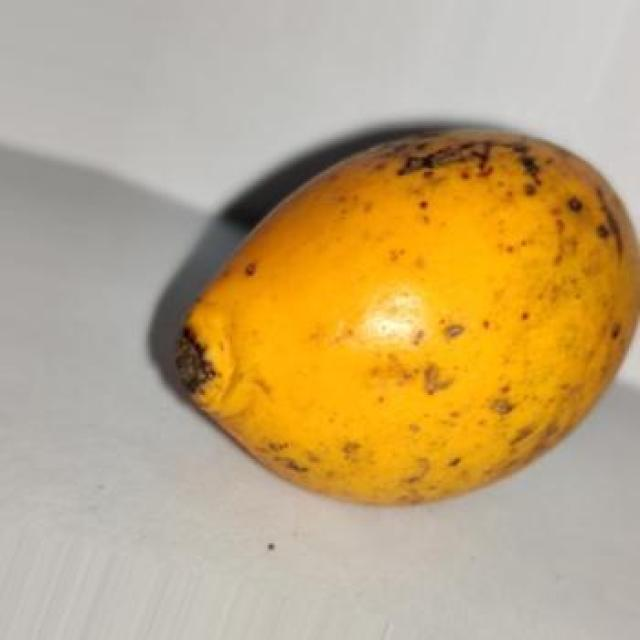good: (172, 126, 638, 507)
